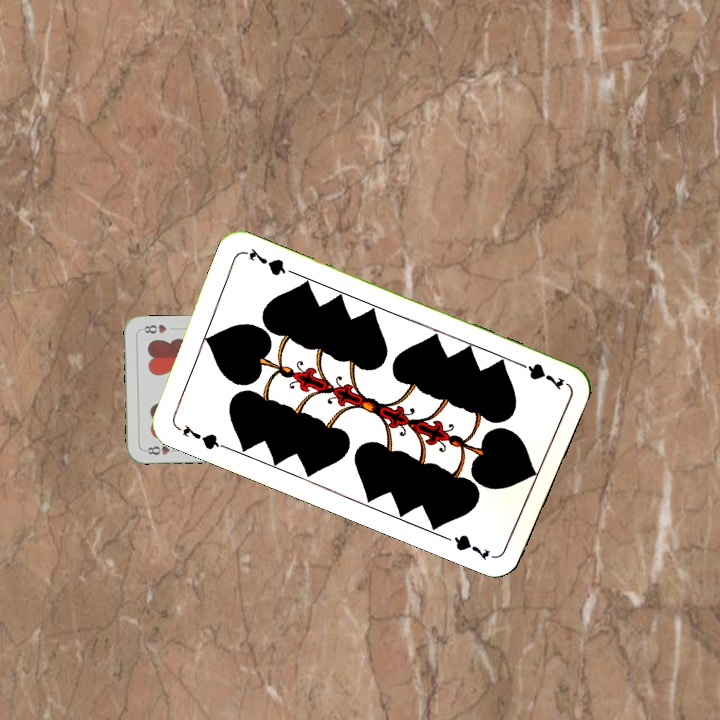G7: (511, 356, 568, 393), (171, 420, 228, 452)
H8: (141, 442, 181, 457)
